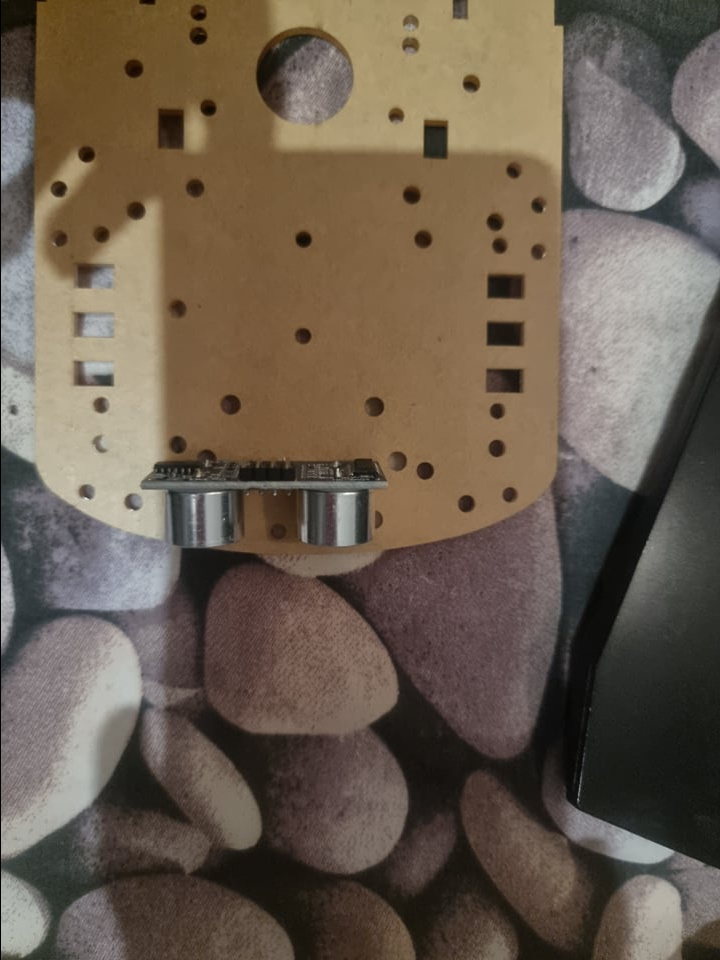SENSOR: (137, 454, 388, 551)
